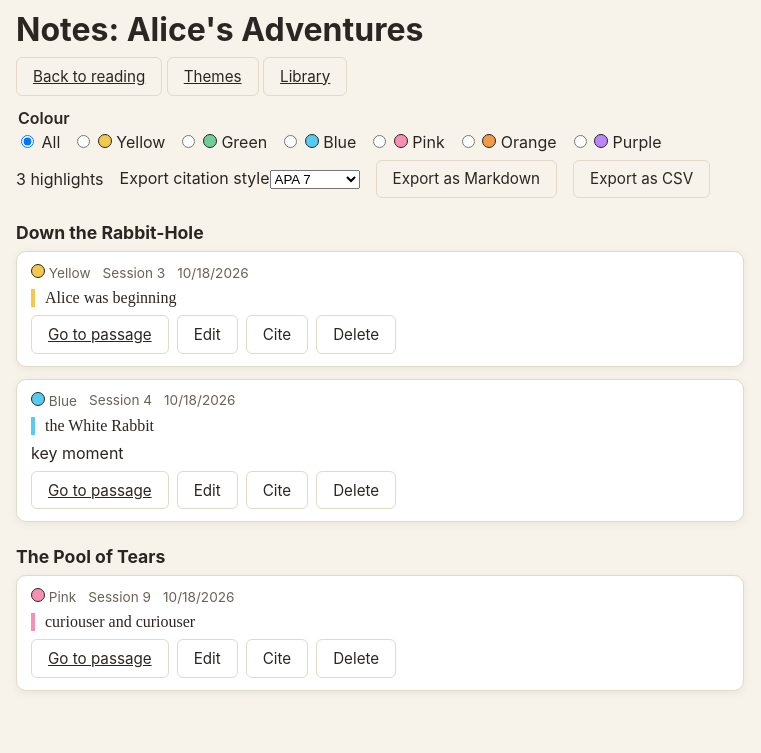
it: NotesPage › edit_saves_colour_and_comment
Expected: the text "key moment" is shown, [31,443,124,463]
Click the button "Edit" below "key moment" at (207, 490), box [177,471,238,509]
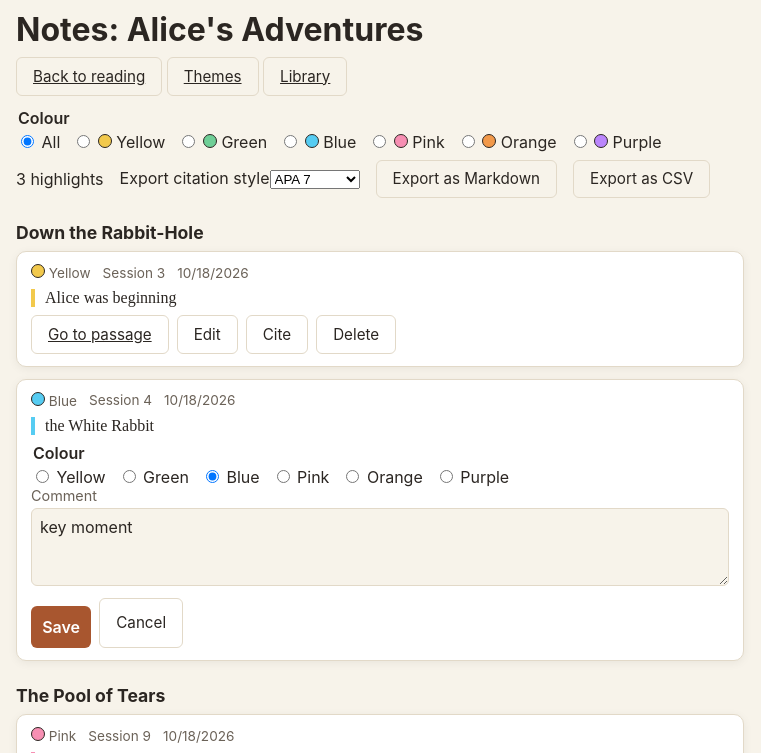
Click the radio button labelled "Green" below "the White Rabbit" at (129, 476), box [123,470,136,483]
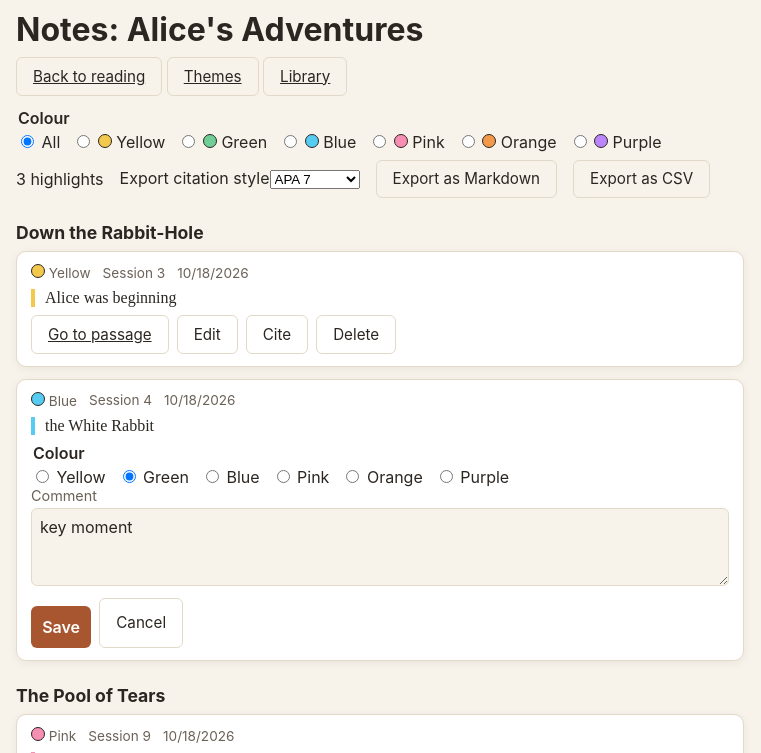
Replace the text in the text box labelled "Comment" with "rewritten" at (380, 547), box [31,508,729,586]
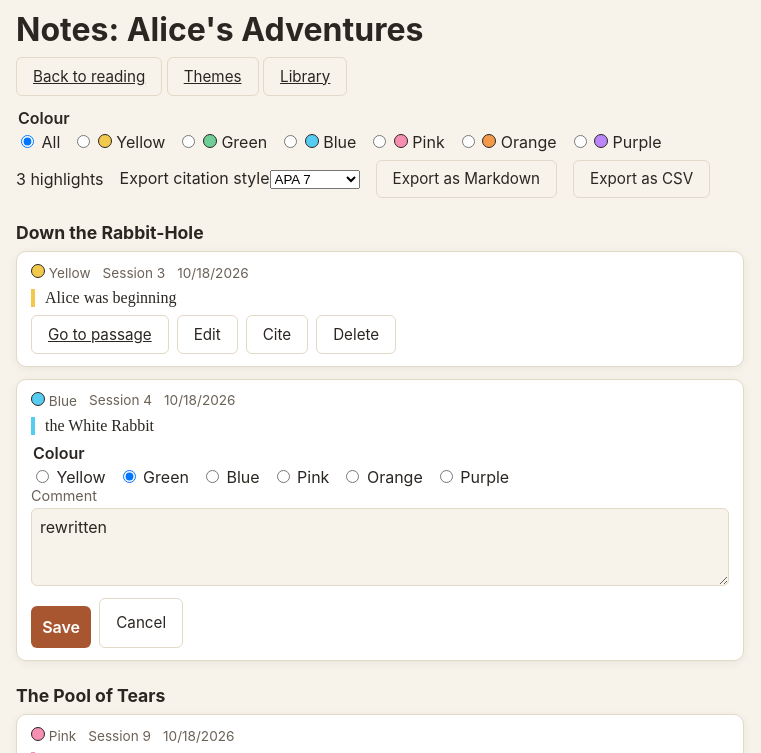
Click the button "Save" at (61, 627), box [31,606,91,648]
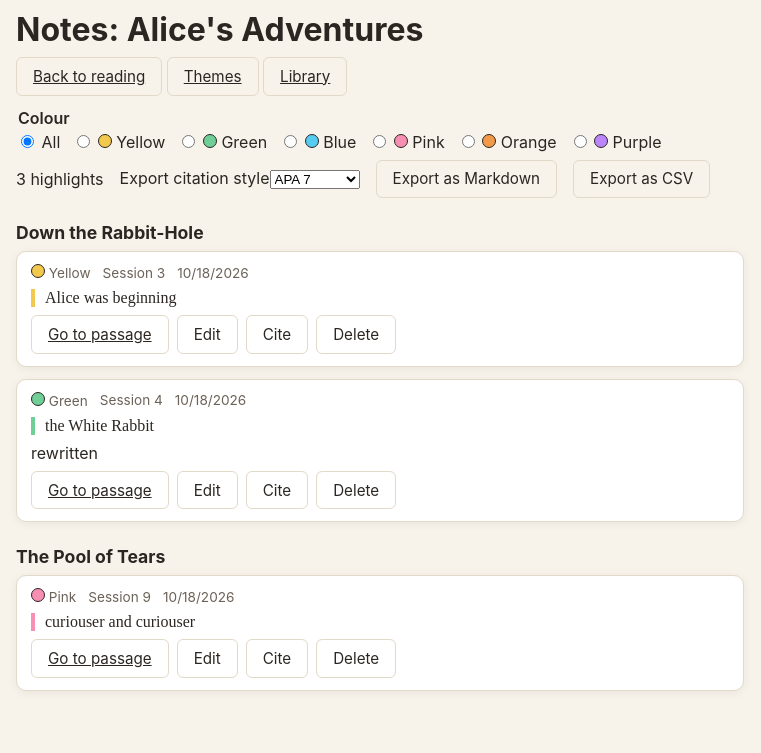
Result: the text "rewritten" is shown at [31,443,98,463]
Result: the text "Green" is shown at [31,392,88,409]
